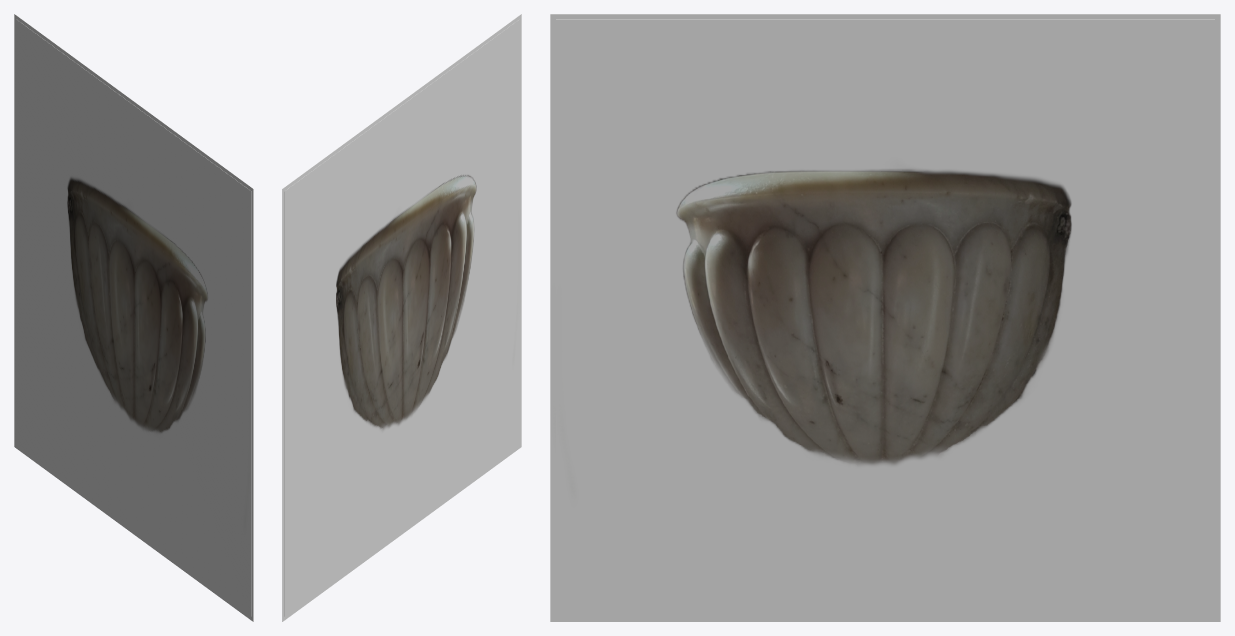
File: 59. Kropielnica.glb
3 renders of one model, left to right at view 1: azimuth 30°, elevation 25°; view 2: azimuth 150°, elevation 25°; view 3: azimuth 270°, elevation 25°, orthographic. The views are drawn at different scales.
Visible parts, largest first — view 1: Plane; view 2: Plane; view 3: Plane.
Part boxes in pixels (bbox=[...]): Plane: bbox=[14, 14, 253, 621]; Plane: bbox=[282, 14, 521, 621]; Plane: bbox=[550, 14, 1220, 621].
Bounding box in the file's own units: 0.0246 × 16 × 16.
1 material, 1 textured.
